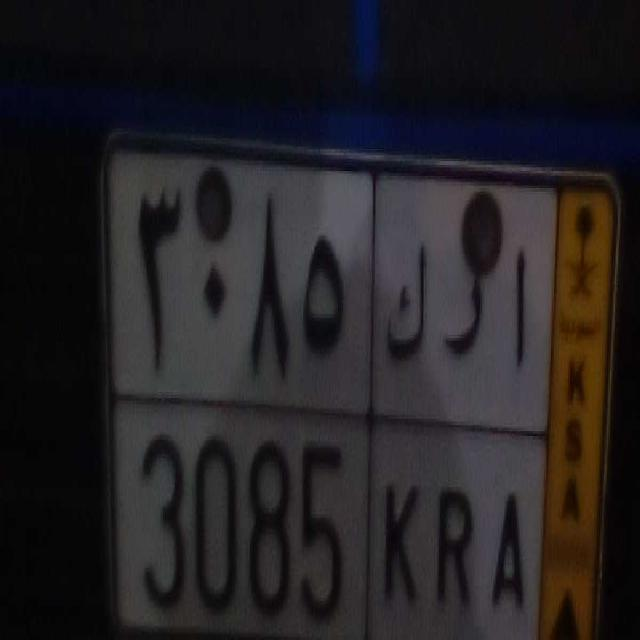license_plate: (116, 389, 538, 640)
